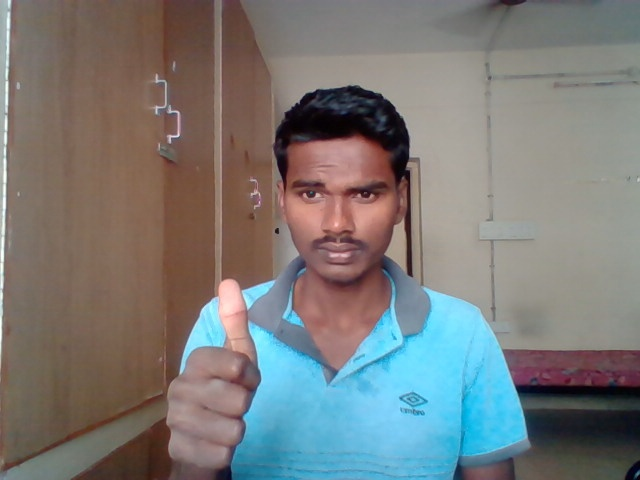Yes: (165, 278, 262, 470)
